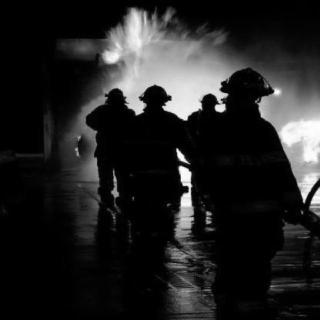Fire: (96, 8, 223, 96), (282, 110, 320, 163)
